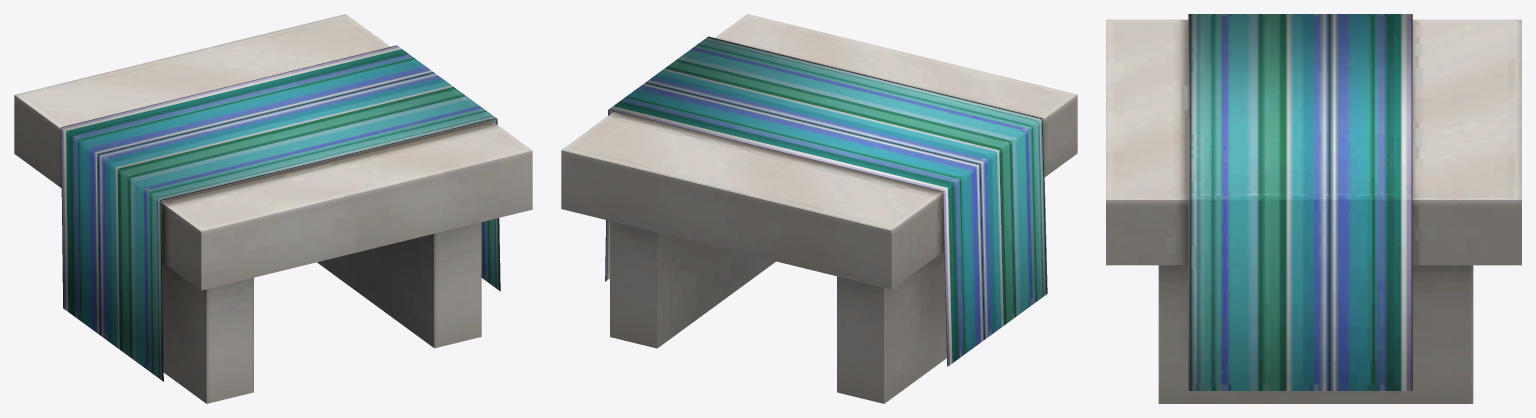
File: furni_0200610_03.FBX
The picture shows the model from 3 angles, left to right: view 1: azimuth 30°, elevation 25°; view 2: azimuth 150°, elevation 25°; view 3: azimuth 270°, elevation 25°; orthographic projection. The views are drawn at different scales.
Visible parts, largest first — view 1: furni_0200610_03; view 2: furni_0200610_03; view 3: furni_0200610_03.
Boxes of the visible parts, x1,y1,x2,y2 form: furni_0200610_03: [14, 14, 532, 403]; furni_0200610_03: [561, 14, 1077, 403]; furni_0200610_03: [1106, 14, 1521, 403].
Bounding box in the file's own units: 81.37 × 45.92 × 77.46.
Materials: 1 (1 with a texture image).
